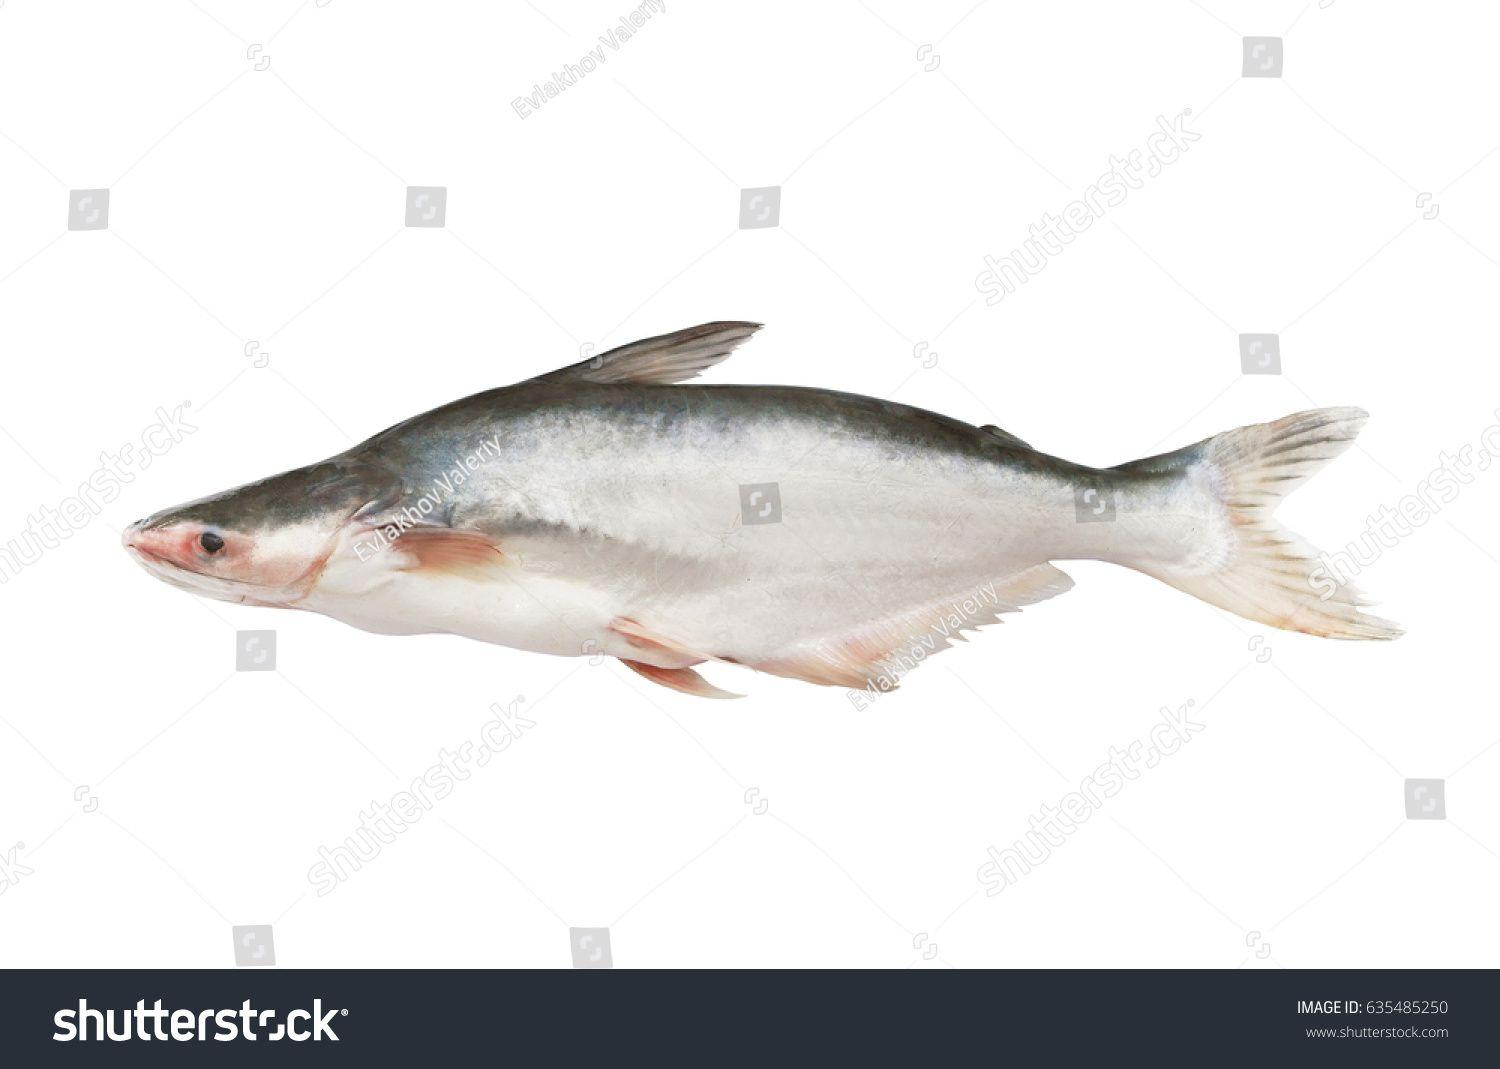Pangasius: (128, 315, 1416, 715)
